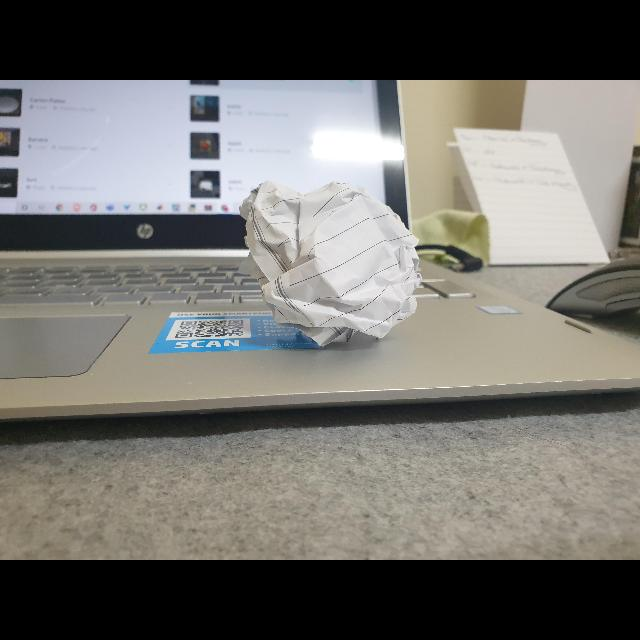scrap_paper: (220, 174, 428, 350)
